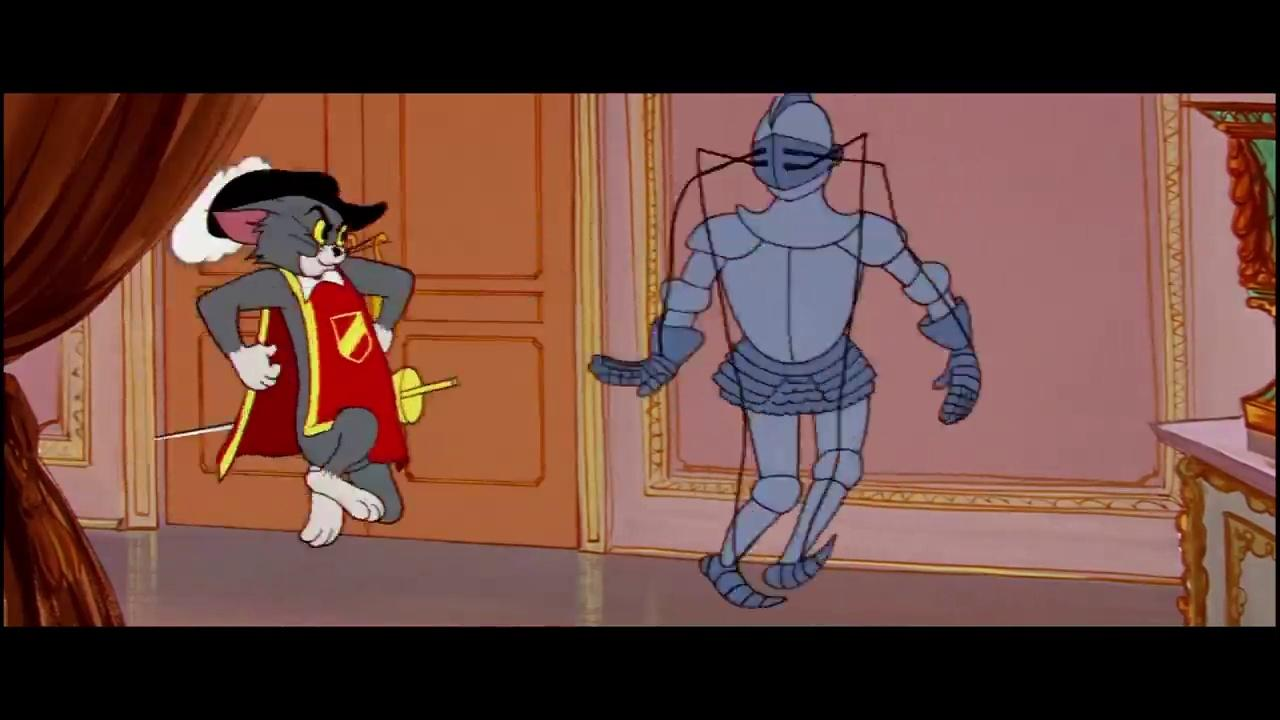Tom: (190, 194, 418, 552)
